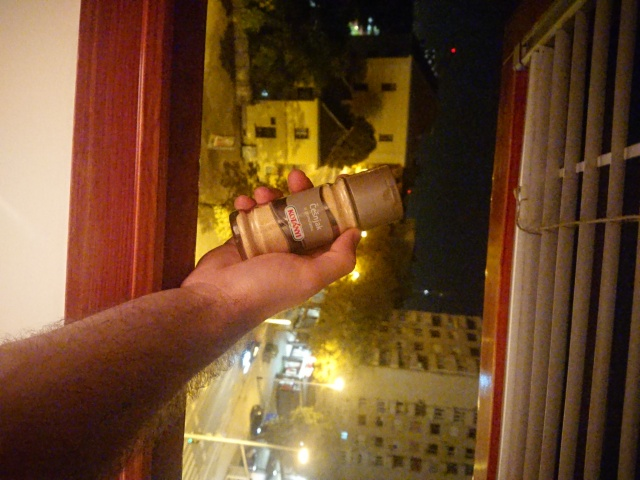Kotanyi Garlic Granules 70g: (227, 161, 407, 268)
